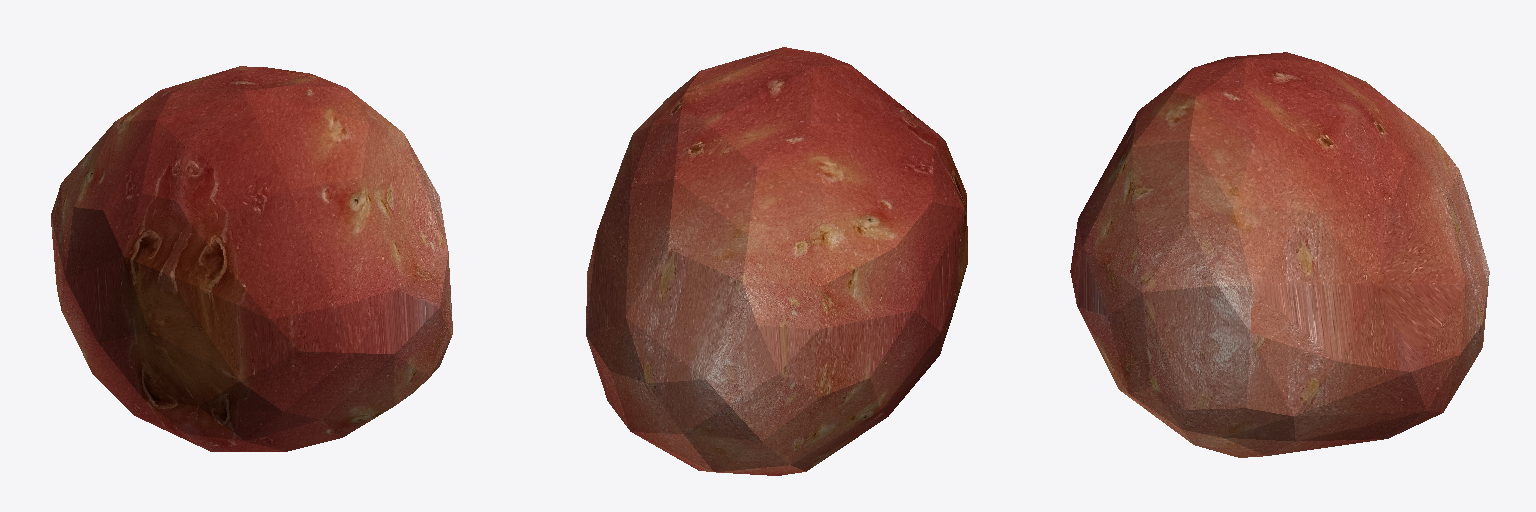
3 renders of one model, left to right at view 1: azimuth 30°, elevation 25°; view 2: azimuth 150°, elevation 25°; view 3: azimuth 270°, elevation 25°, orthographic.
Visible parts, largest first — view 1: Asteroid; view 2: Asteroid; view 3: Asteroid.
Part boxes in pixels (x1,y1,x2,y2): Asteroid: (51,66,452,451); Asteroid: (586,47,967,475); Asteroid: (1070,52,1489,457).
Size of the model in its own units: 4.37 by 4.56 by 4.71.
Materials: 1 (1 with a texture image).